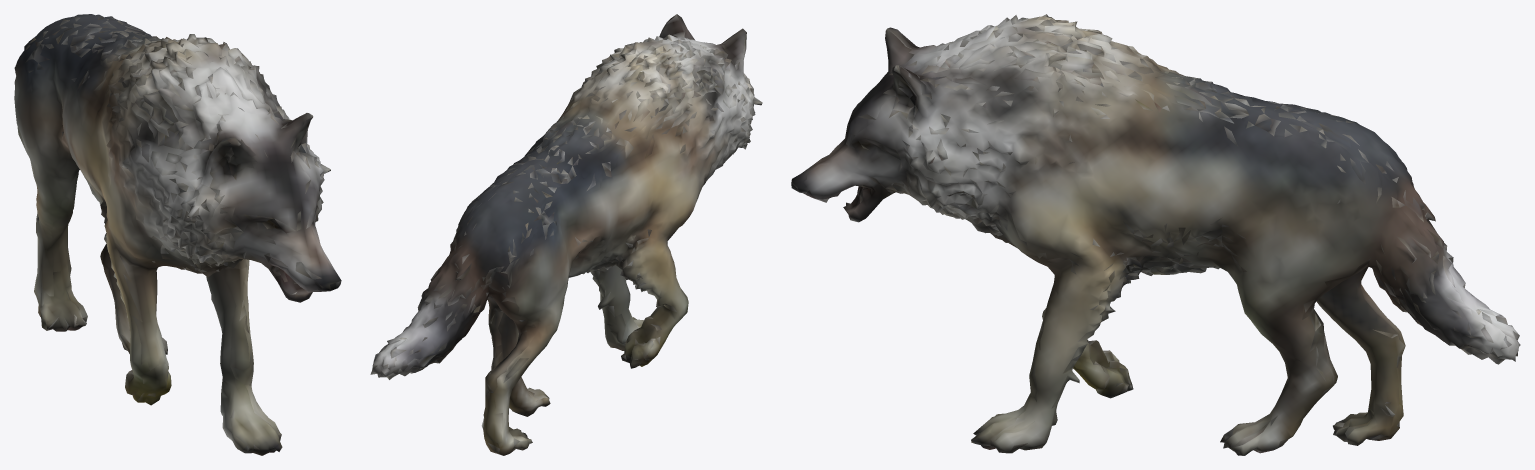
Rendered from Belle_final.glb.
3 renders of one model, left to right at view 1: azimuth 30°, elevation 25°; view 2: azimuth 150°, elevation 25°; view 3: azimuth 270°, elevation 25°, orthographic. The views are drawn at different scales.
Parts seen in each view (by area): view 1: Mesh1.0; view 2: Mesh1.0; view 3: Mesh1.0.
Part boxes in pixels (left/top/right/bottom): Mesh1.0: left=14, top=14, right=341, bottom=455; Mesh1.0: left=370, top=14, right=762, bottom=455; Mesh1.0: left=791, top=14, right=1520, bottom=455.
Bounding box in the file's own units: 0.9557 × 1.8 × 2.95.
Materials: 1 (1 with a texture image).
